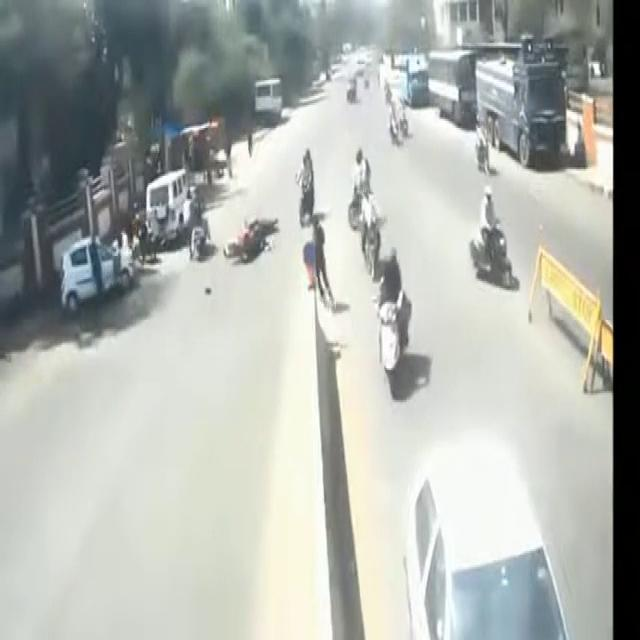accident: (225, 187, 289, 283)
